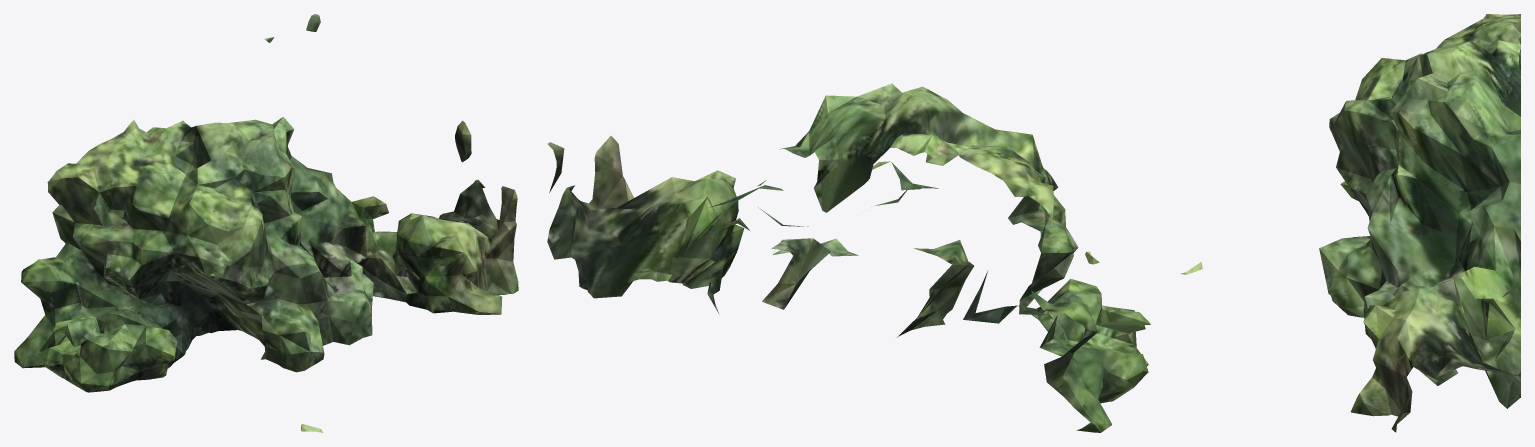
3 renders of one model, left to right at view 1: azimuth 30°, elevation 25°; view 2: azimuth 150°, elevation 25°; view 3: azimuth 270°, elevation 25°, orthographic. The views are drawn at different scales.
Bounding box in the file's own units: 22.96 × 13.05 × 13.32.
2 materials, 2 textured.
